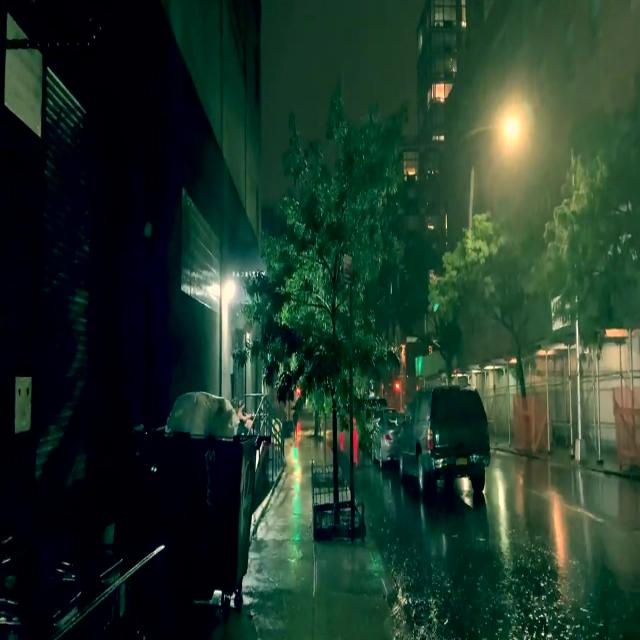Car: (395, 388, 488, 498)
